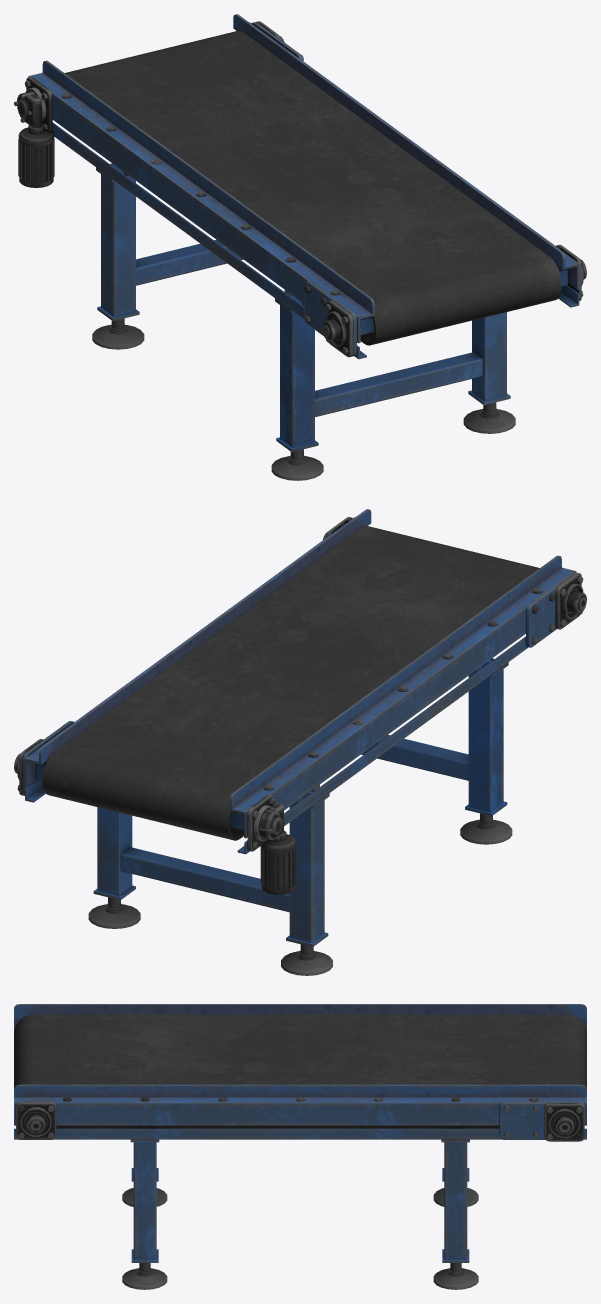
The model's file is conveyor.glb.
3 views of the same model, one above another, from view 1: azimuth 30°, elevation 25°; view 2: azimuth 150°, elevation 25°; view 3: azimuth 270°, elevation 25° (orthographic). The views are drawn at different scales.
Visible parts, largest first — view 1: Conveyor01Belt, Conveyor01Frame01, Conveyor01Legs, Conveyor01Frame02; view 2: Conveyor01Belt, Conveyor01Frame01, Conveyor01Legs, Conveyor01Frame02; view 3: Conveyor01Belt, Conveyor01Frame02, Conveyor01Legs, Conveyor01Frame01, Conveyor01Frame.
Boxes of the visible parts, box(x1,y1,x2,y2) form: Conveyor01Belt: box(65, 30, 561, 344); Conveyor01Frame01: box(14, 60, 374, 359); Conveyor01Legs: box(92, 163, 515, 480); Conveyor01Frame02: box(233, 14, 586, 307); Conveyor01Belt: box(42, 525, 539, 840); Conveyor01Frame01: box(229, 555, 586, 894); Conveyor01Legs: box(88, 658, 512, 975); Conveyor01Frame02: box(14, 509, 371, 802); Conveyor01Belt: box(14, 1014, 586, 1089); Conveyor01Frame02: box(14, 1084, 586, 1141); Conveyor01Legs: box(122, 1139, 478, 1289); Conveyor01Frame01: box(14, 1004, 586, 1031); Conveyor01Frame: box(56, 1125, 499, 1128).
Bounding box in the file's own units: 0.9422 × 0.7494 × 2.
Materials: 2 (2 with a texture image).
